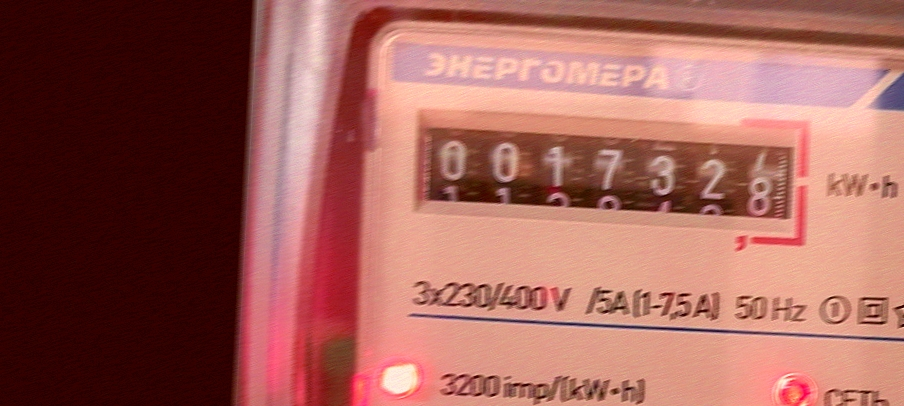0: (436, 136, 471, 182), (490, 137, 522, 183)
1: (544, 140, 568, 188)
2: (697, 155, 728, 201)
3: (648, 151, 677, 196)
7: (594, 145, 624, 192)
8: (745, 173, 773, 216)
screen: (402, 101, 819, 251)
